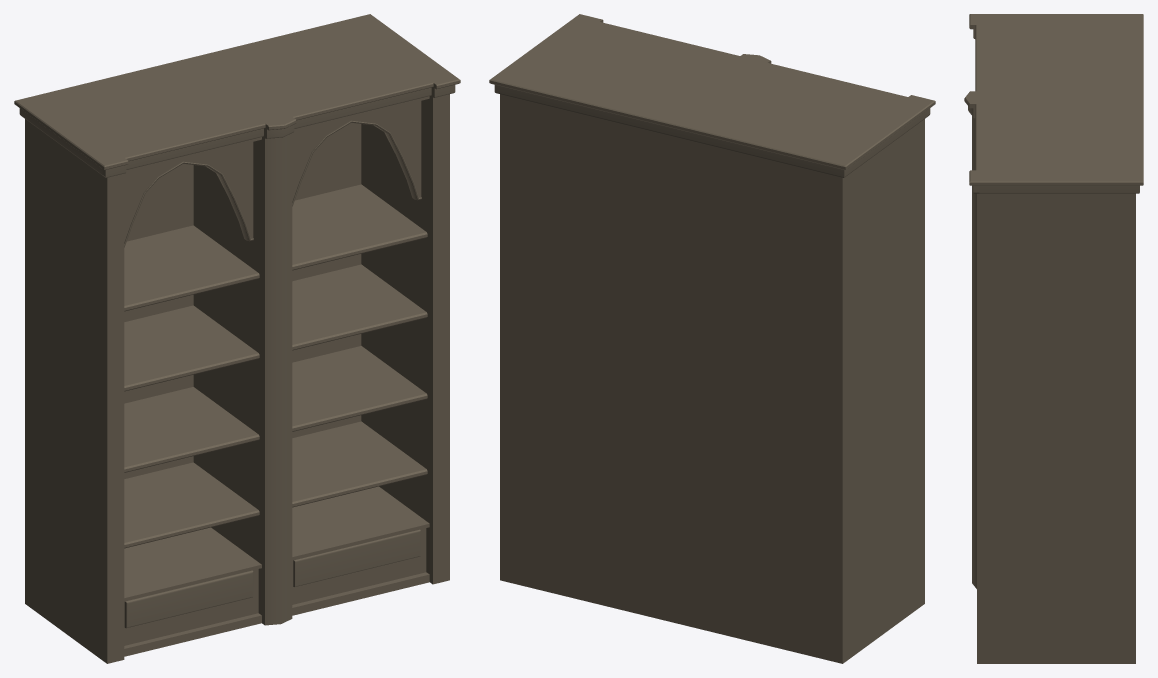
The model's file is BookShelf.fbx.
3 views of the same model, side by side, from view 1: azimuth 30°, elevation 25°; view 2: azimuth 150°, elevation 25°; view 3: azimuth 270°, elevation 25° (orthographic). The views are drawn at different scales.
Visible parts, largest first — view 1: Bookshelf; view 2: Bookshelf; view 3: Bookshelf.
Boxes of the visible parts, bbox=[...] form: Bookshelf: bbox=[14, 14, 460, 663]; Bookshelf: bbox=[489, 14, 935, 663]; Bookshelf: bbox=[964, 14, 1143, 663].
Size of the model in its own units: 10.4 by 14 by 4.69.
